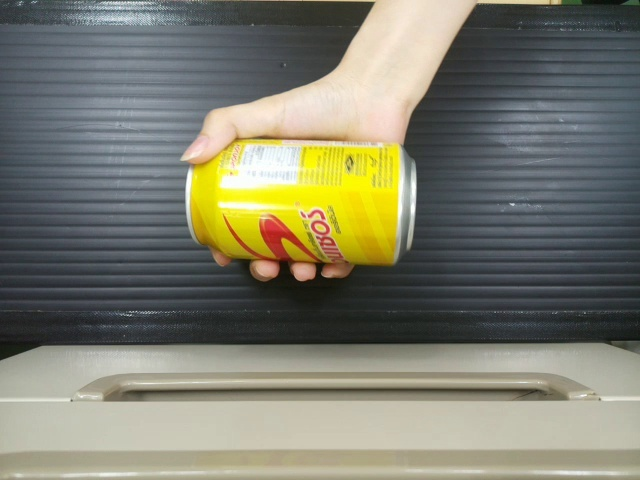can: (182, 136, 414, 261)
